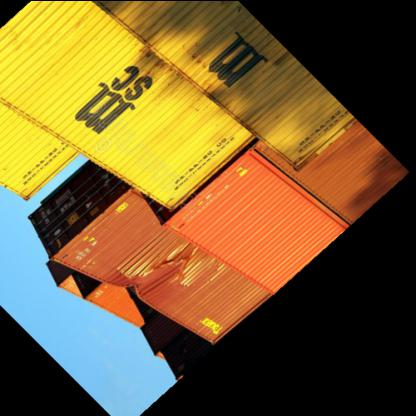Damage: (122, 246, 182, 300)
